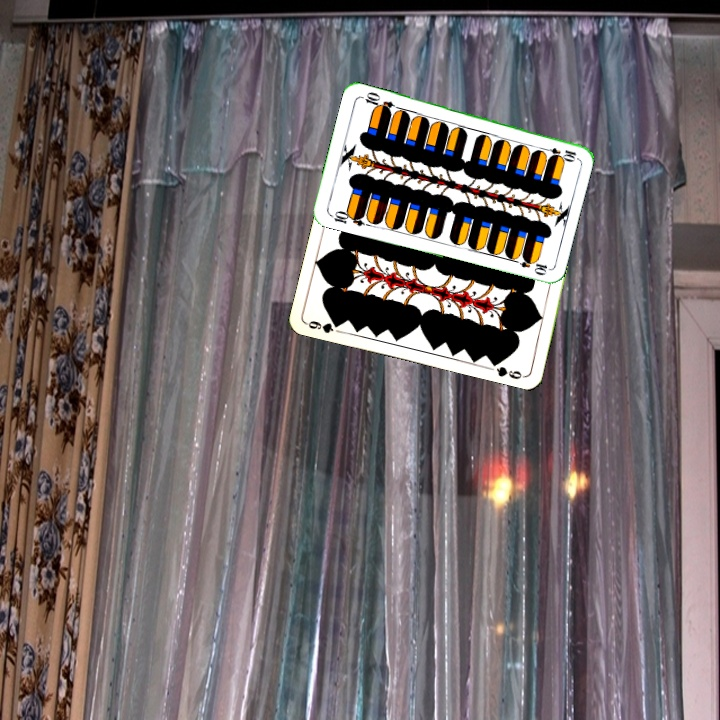E10: (326, 207, 367, 229), (538, 144, 579, 162)
G9: (303, 317, 344, 336)
